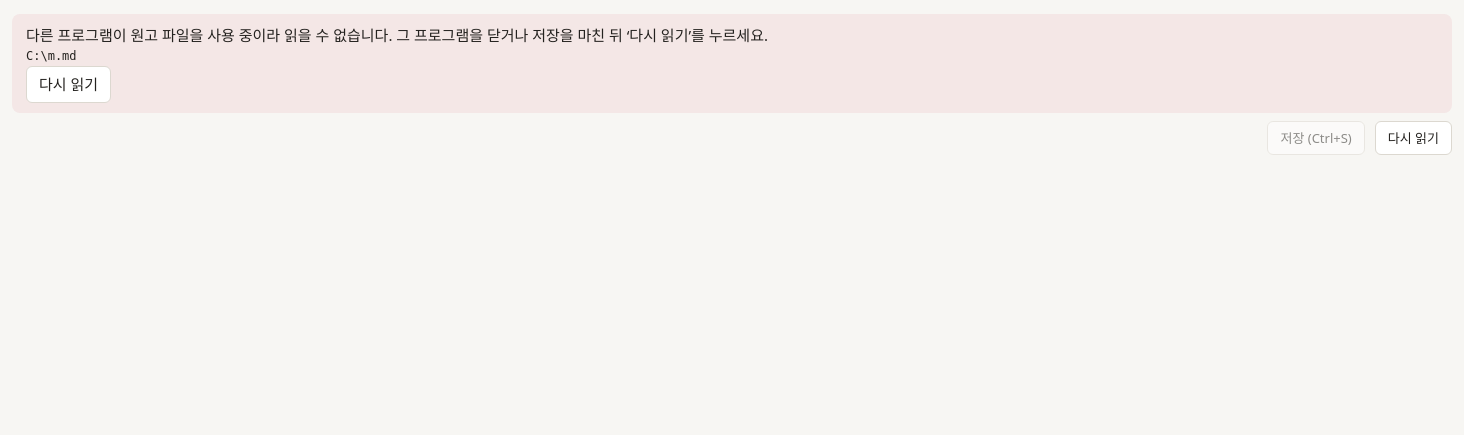
Scenario: built-in editor › locked file: read again recovers
Expected: the text "다른 프로그램이 원고 파일을 사용 중" is shown, [26,25,768,45]
Click the button "다시 읽기" below "C:\\m.md" at (69, 84), box [26,66,111,103]
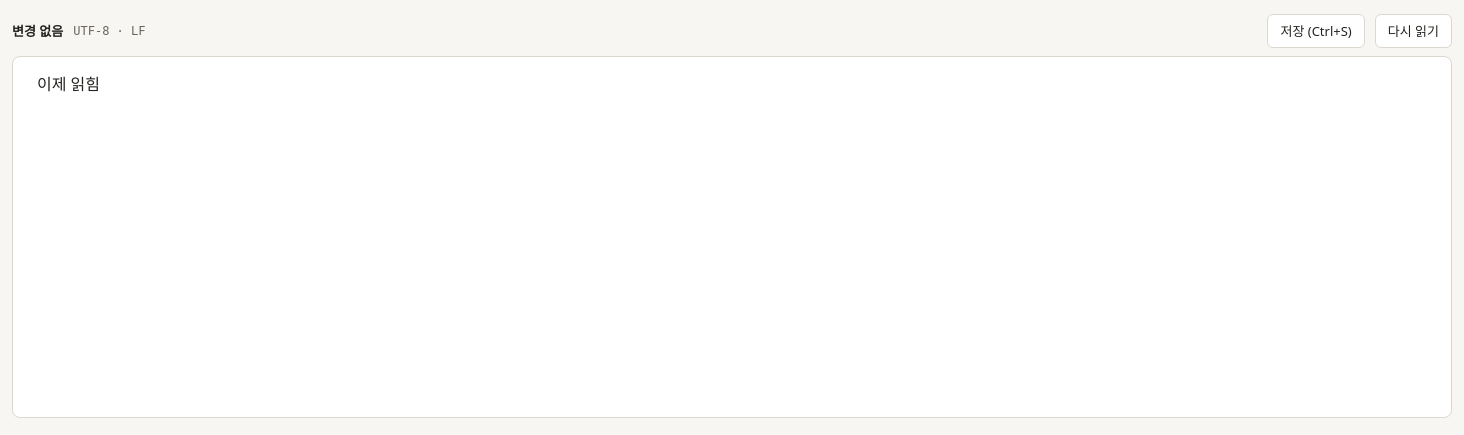
Now the text box labelled "이제 읽힘" is shown, box [37,73,100,95]
